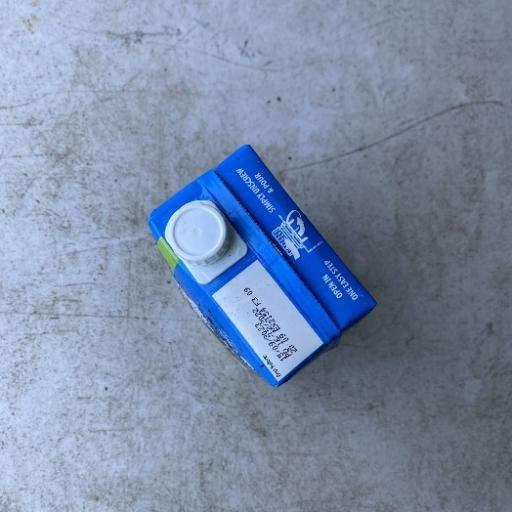Cardboard: (146, 143, 378, 389)
